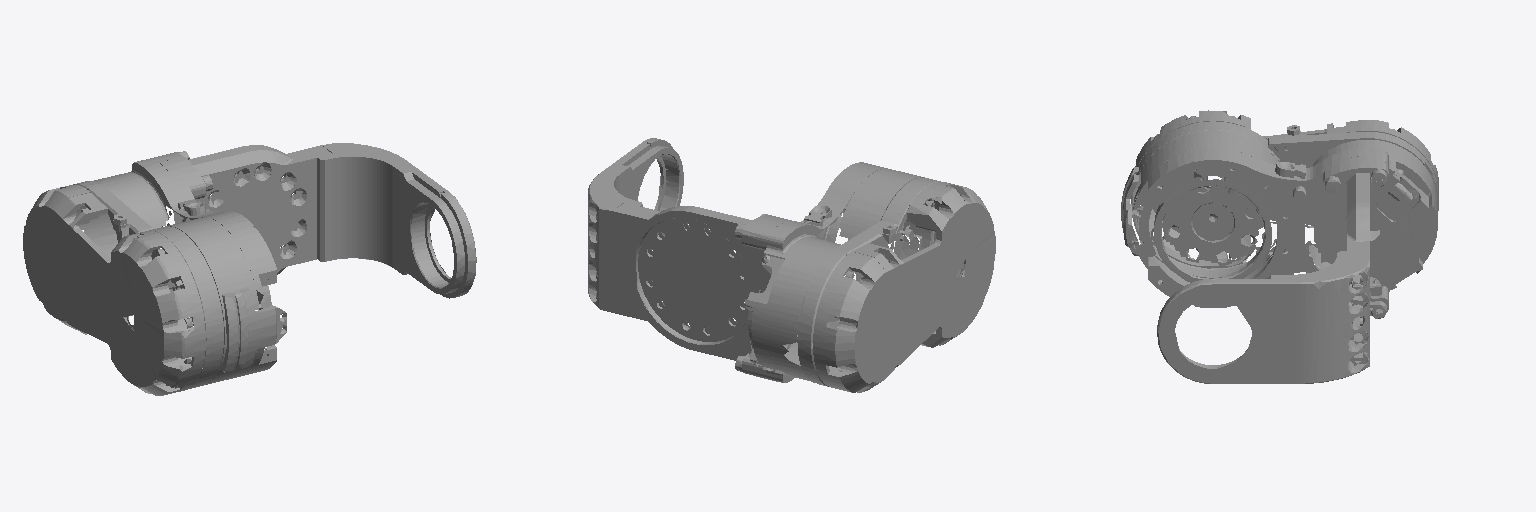
File: sim_ecub_r_hip_2.obj
3 renders of one model, left to right at view 1: azimuth 30°, elevation 25°; view 2: azimuth 150°, elevation 25°; view 3: azimuth 270°, elevation 25°, orthographic.
Size of the model in its own units: 158 by 70.23 by 136.